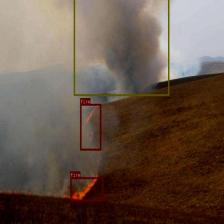fire: (80, 104, 101, 150), (70, 177, 103, 201)
smoke: (74, 0, 169, 96)
